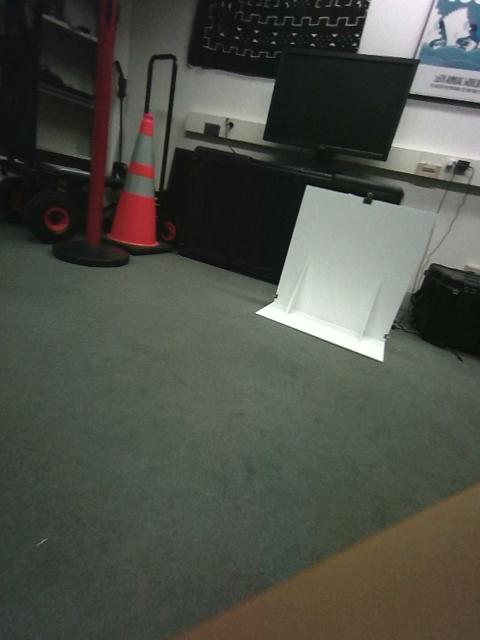block: (145, 254, 171, 283)
